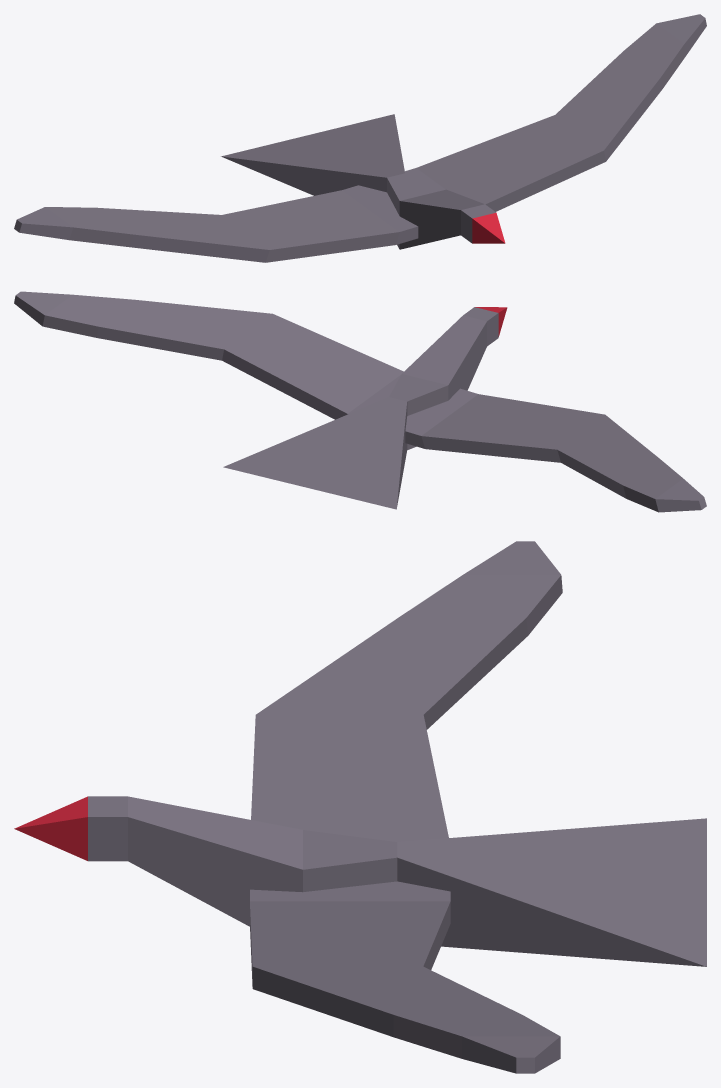
File: bird3.fbx
3 views of the same model, one above another, from view 1: azimuth 30°, elevation 25°; view 2: azimuth 150°, elevation 25°; view 3: azimuth 270°, elevation 25° (orthographic). The views are drawn at different scales.
Parts seen in each view (by area): view 1: Cube.001, Cube; view 2: Cube.001, Cube; view 3: Cube.001, Cube.
Boxes of the visible parts, x1,y1,x2,y2 form: Cube.001: (14,14,706,262); Cube: (221,114,505,249); Cube.001: (14,291,706,512); Cube: (223,307,507,509); Cube.001: (250,541,562,1073); Cube: (14,796,706,966).
Size of the model in its own units: 292 by 39.62 by 145.
